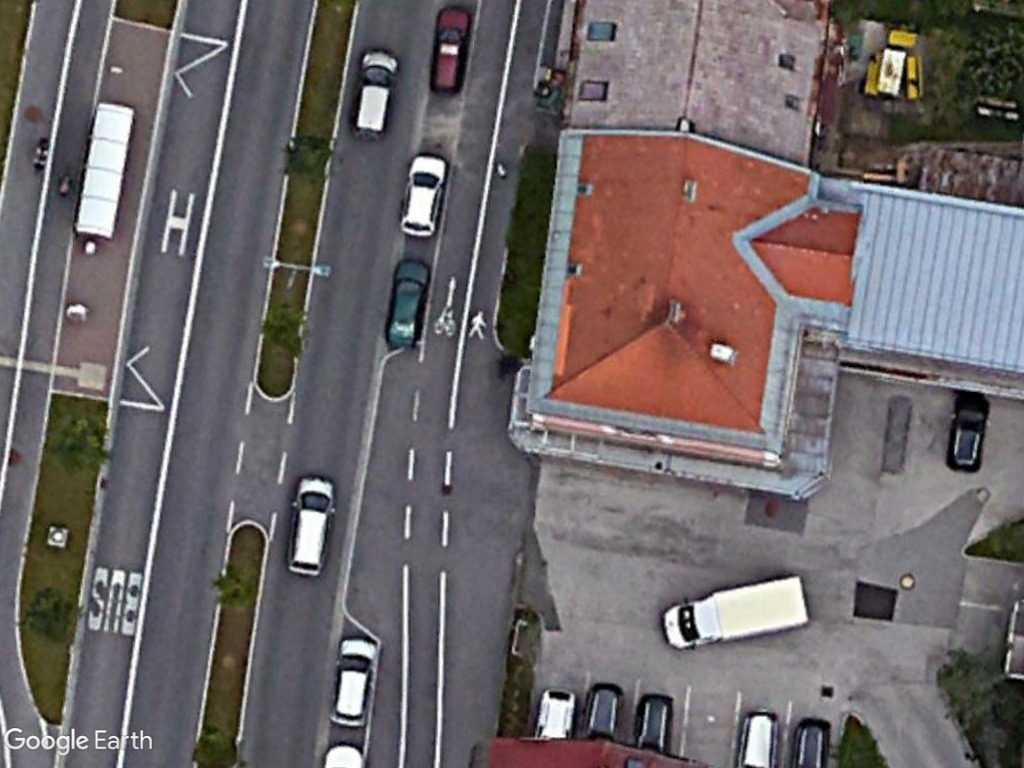car: (279, 469, 338, 580), (326, 630, 381, 733), (347, 44, 405, 141), (420, 2, 477, 97), (397, 147, 450, 242), (940, 391, 995, 477), (385, 250, 431, 349)
van: (656, 571, 817, 654)
